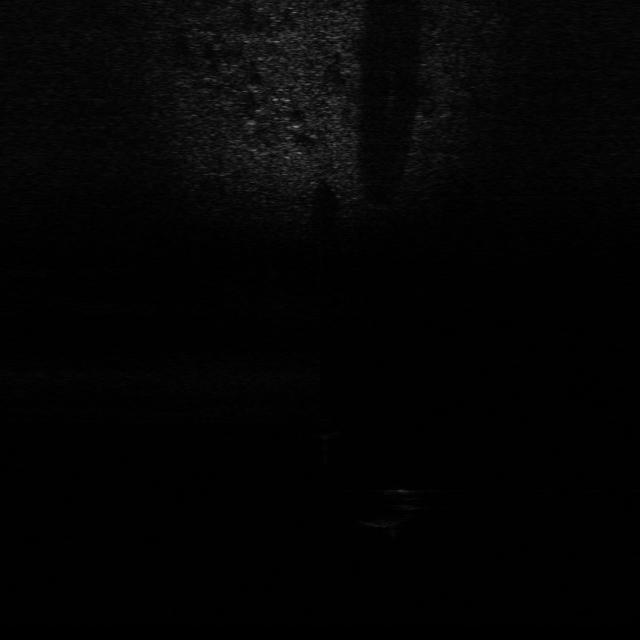ball: (312, 417, 344, 439)
tyre: (350, 482, 424, 530)
